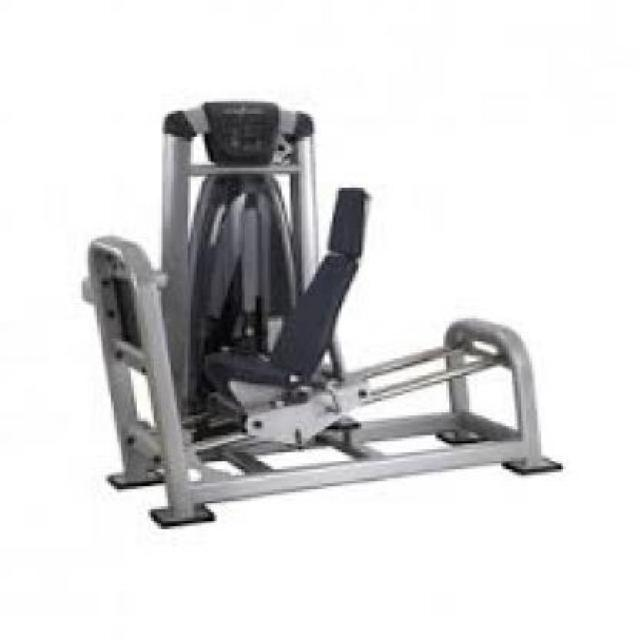leg press: (69, 83, 568, 543)
